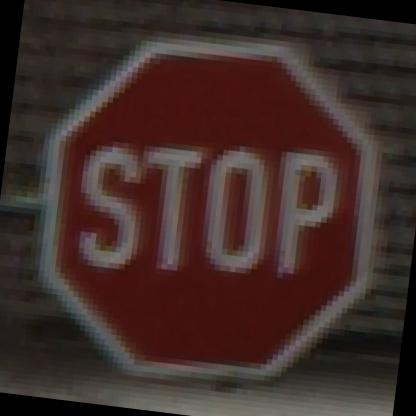stop: (15, 17, 406, 404)
